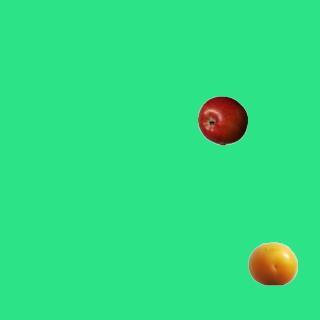Apple Braeburn: (197, 95, 247, 145)
Cherry Wax Yellow: (247, 238, 297, 288)
